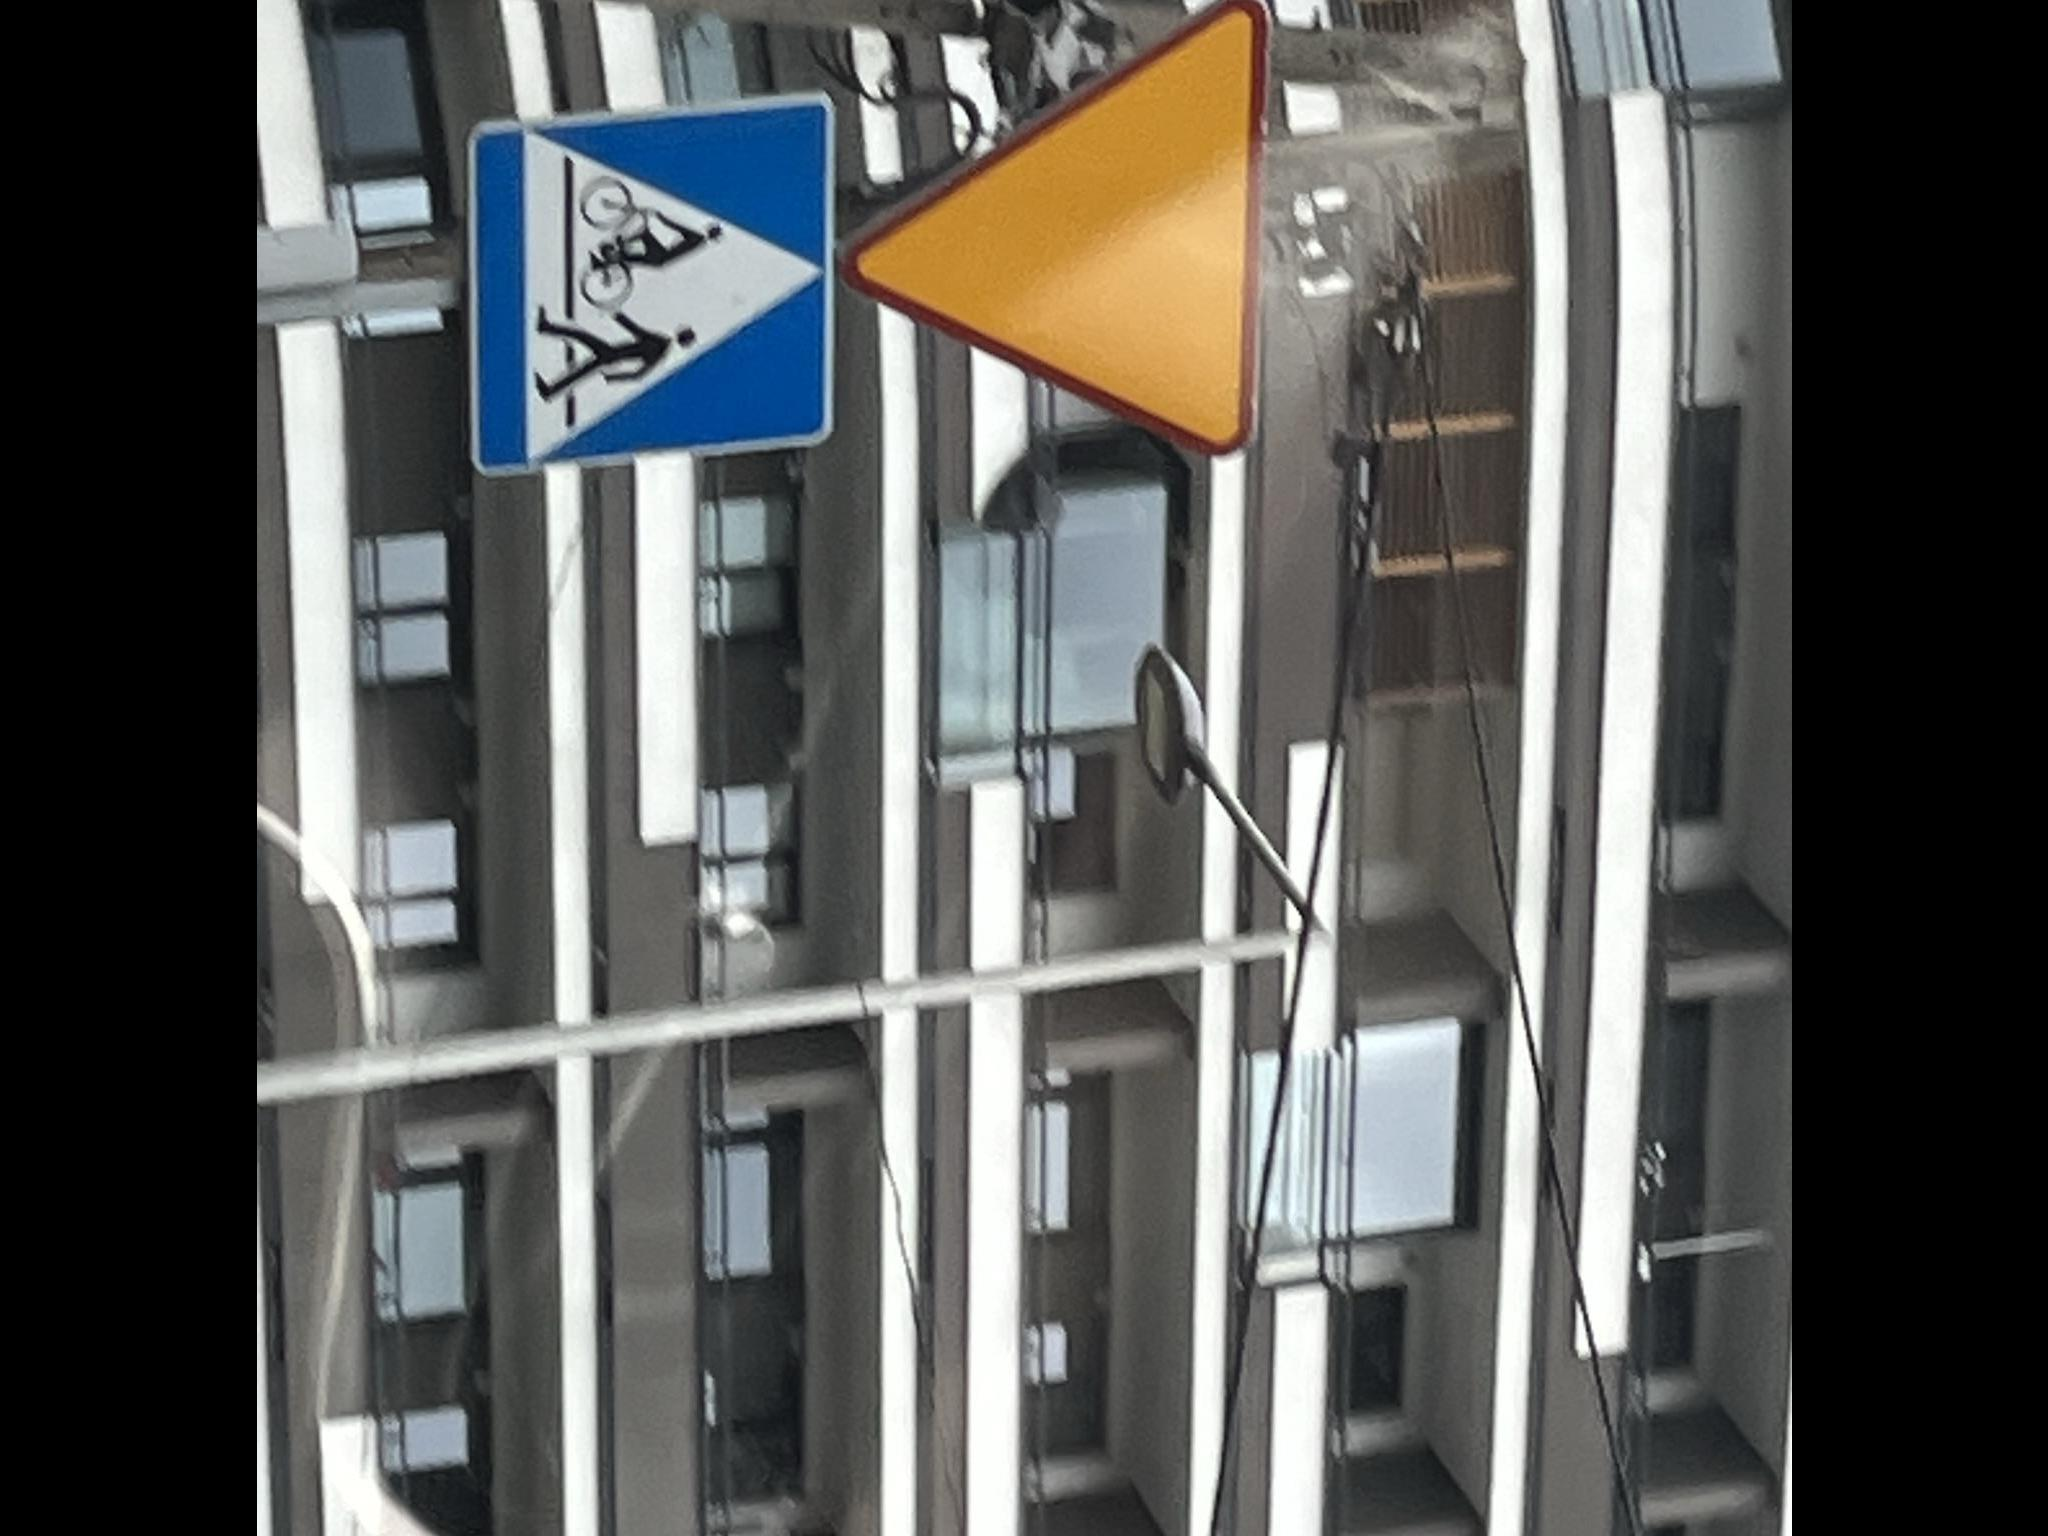information: (464, 92, 839, 476)
warning: (832, 0, 1276, 461)
